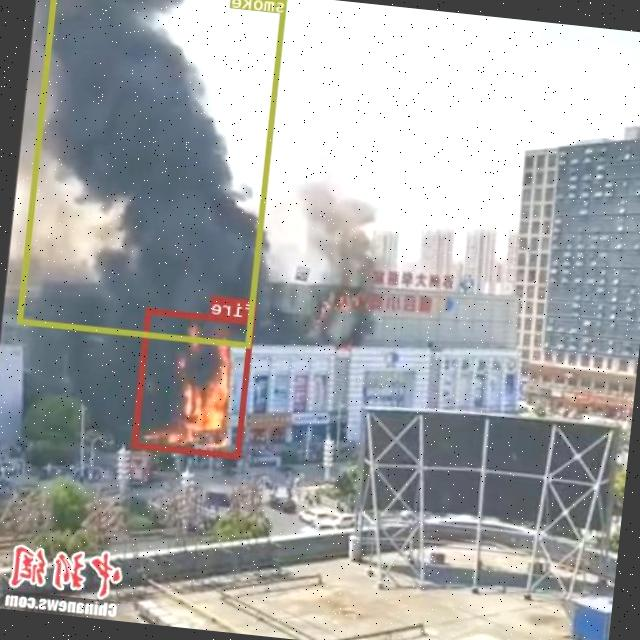fire: (133, 308, 255, 458)
smoke: (18, 0, 289, 346)
